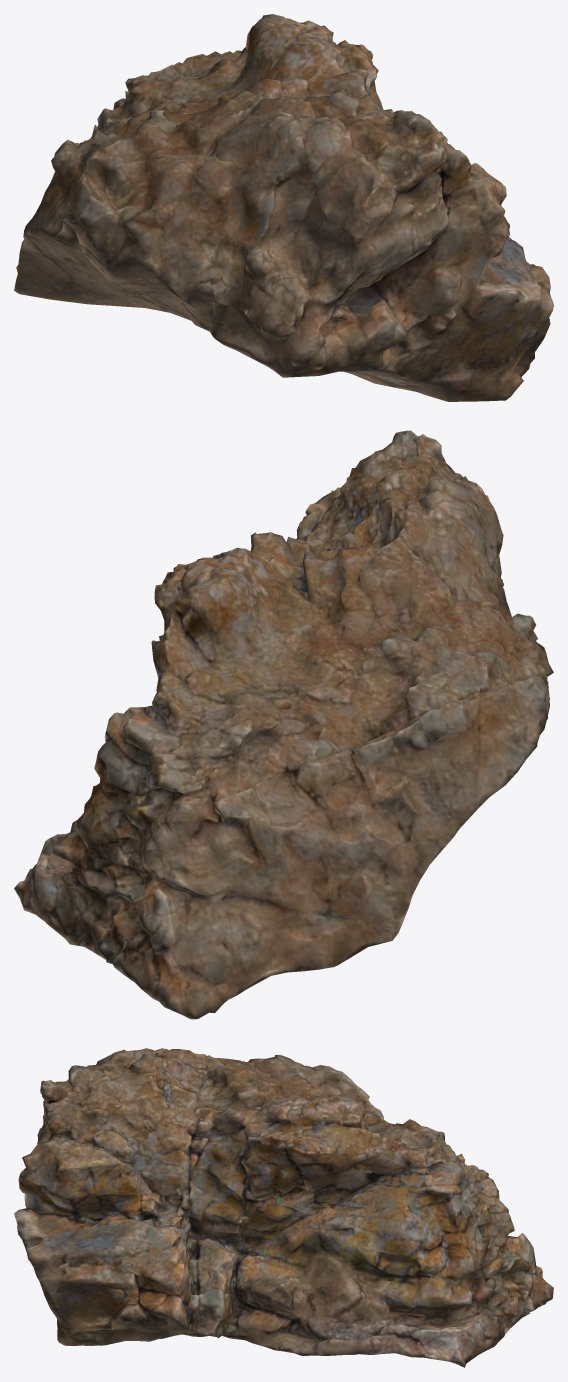
Rendered from boulder_01_1k.glb.
The picture shows the model from 3 angles, top to bottom: view 1: azimuth 30°, elevation 25°; view 2: azimuth 150°, elevation 25°; view 3: azimuth 270°, elevation 25°; orthographic projection. The views are drawn at different scales.
Visible parts, largest first — view 1: boulder_01; view 2: boulder_01; view 3: boulder_01.
Boxes of the visible parts, <box> form: boulder_01: <box>14,14,553,401</box>; boulder_01: <box>14,430,553,1019</box>; boulder_01: <box>14,1048,553,1367</box>.
Bounding box in the file's own units: 1.27 × 1 × 1.83.
Materials: 1 (1 with a texture image).
